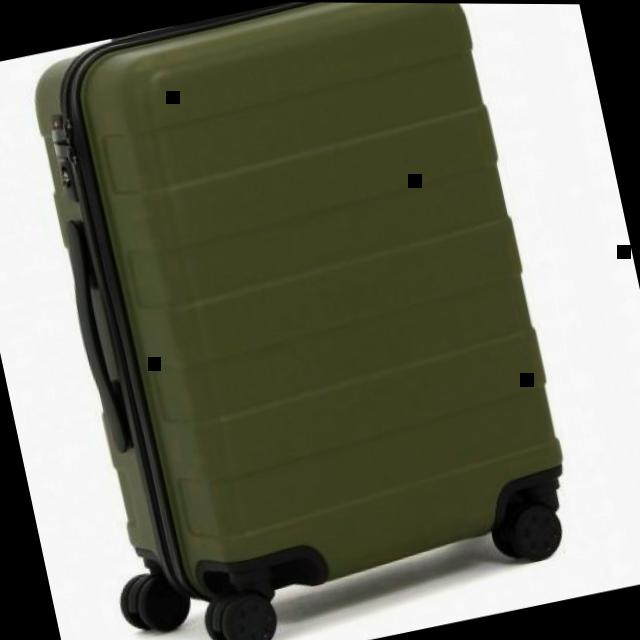luggage: (15, 0, 602, 640)
